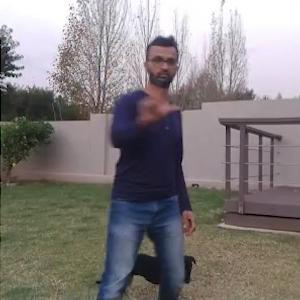land_hand: (135, 71, 176, 121)
